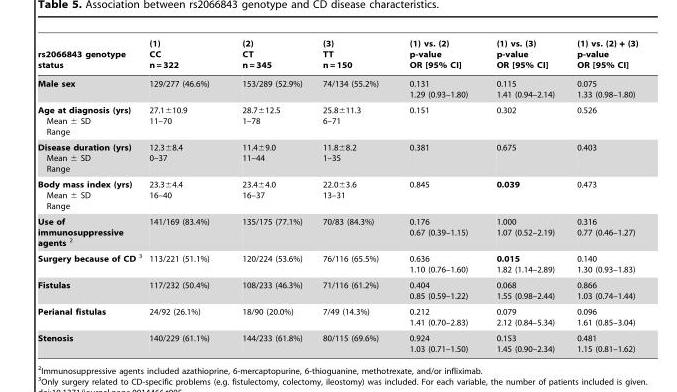table: (37, 36, 637, 353)
table column: (37, 36, 144, 353), (393, 36, 481, 353), (225, 36, 311, 353), (481, 36, 565, 353), (311, 36, 393, 353), (144, 36, 225, 353), (565, 36, 637, 353)
table column header: (37, 36, 637, 74)
table row: (37, 36, 637, 74), (37, 138, 637, 176), (37, 101, 637, 138), (37, 176, 637, 213), (37, 213, 637, 249), (37, 249, 637, 277), (37, 74, 637, 101), (37, 303, 637, 330), (37, 277, 637, 303), (37, 330, 637, 353)
